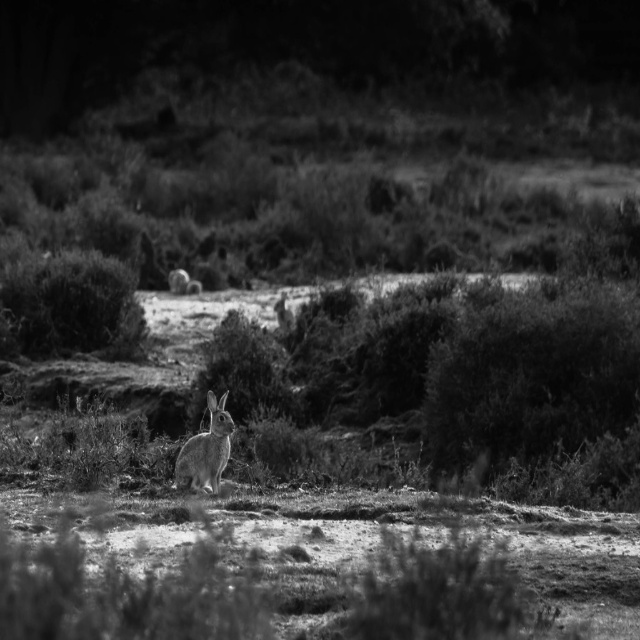Rabbit: (172, 387, 234, 495)
